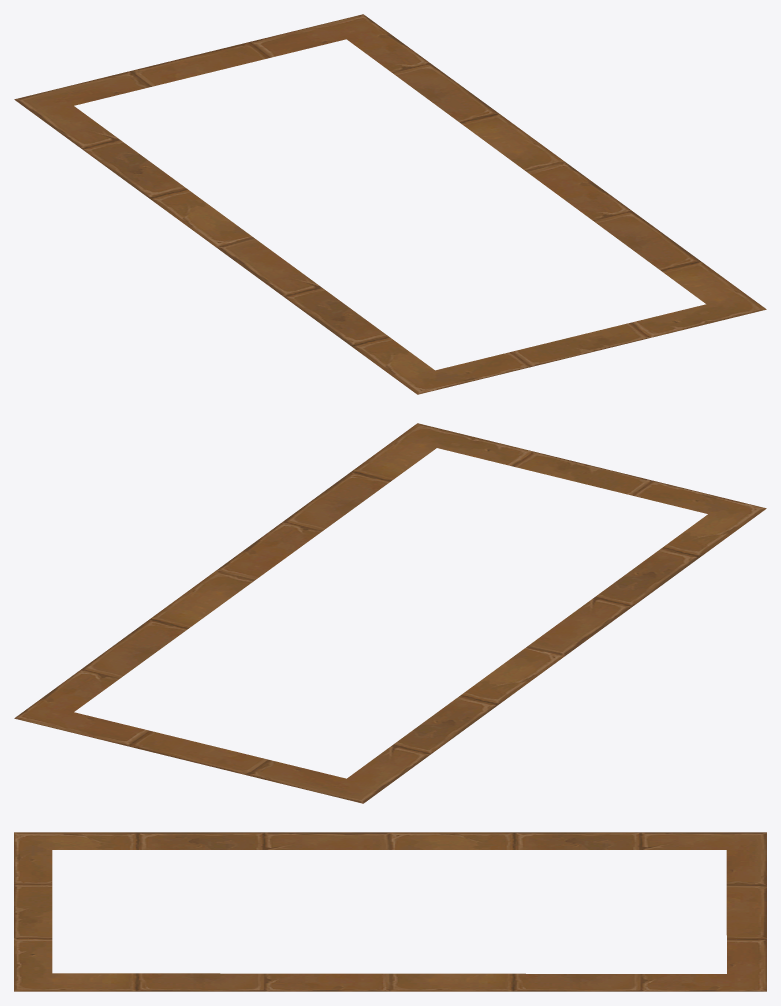
The model's file is shakian_bottom_base4_tombtile01_01.FBX.
The picture shows the model from 3 angles, top to bottom: view 1: azimuth 30°, elevation 25°; view 2: azimuth 150°, elevation 25°; view 3: azimuth 270°, elevation 25°; orthographic projection. The views are drawn at different scales.
Visible parts, largest first — view 1: shakian_bottom_base4_tombtile01_01; view 2: shakian_bottom_base4_tombtile01_01; view 3: shakian_bottom_base4_tombtile01_01.
Boxes of the visible parts, left/top/right/bottom form: shakian_bottom_base4_tombtile01_01: left=14, top=14, right=766, bottom=394; shakian_bottom_base4_tombtile01_01: left=14, top=423, right=766, bottom=803; shakian_bottom_base4_tombtile01_01: left=14, top=832, right=766, bottom=991.
Size of the model in its own units: 4 by 2.27e-15 by 8.
